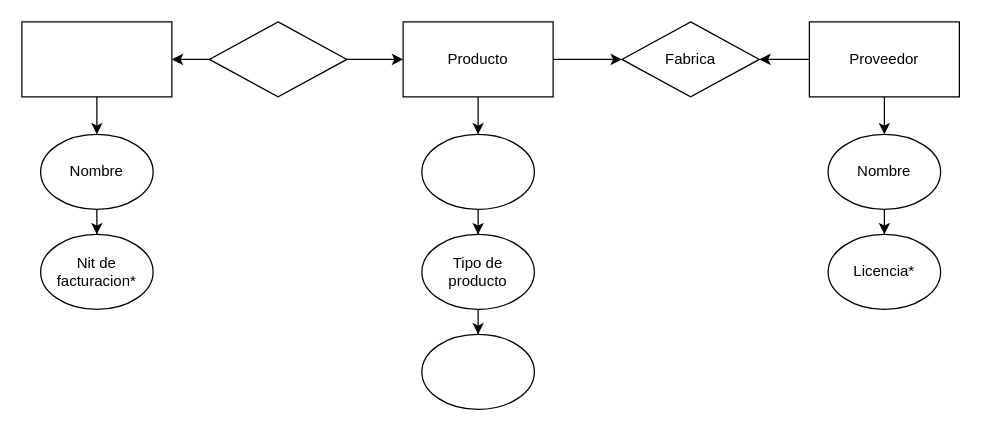
Some shapes in this 981 by 431 pixel diagram are drawn without their labels. Here are the shapes that lost their labels. From the top down, the centre of each, then its label:
point 96,59: Cliente
point 277,59: Compra
point 477,171: Factura
point 477,371: Codigo*
